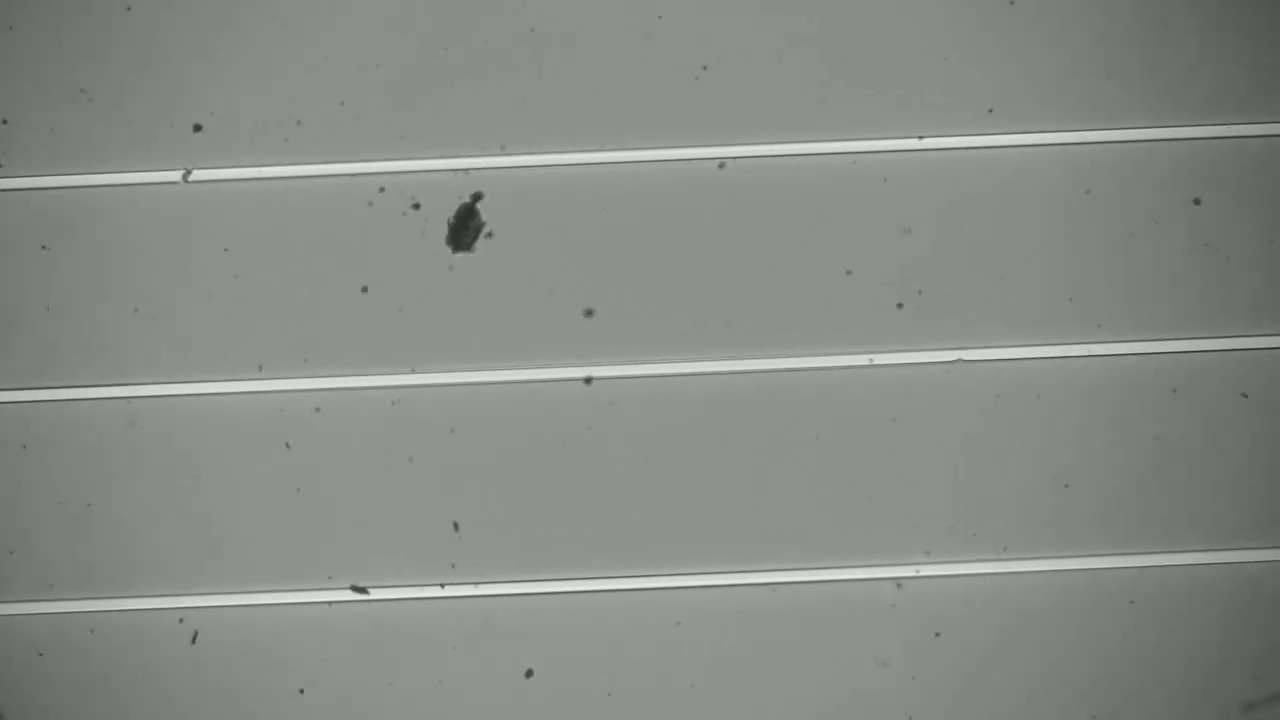stains_enbedded: (171, 160, 200, 188)
